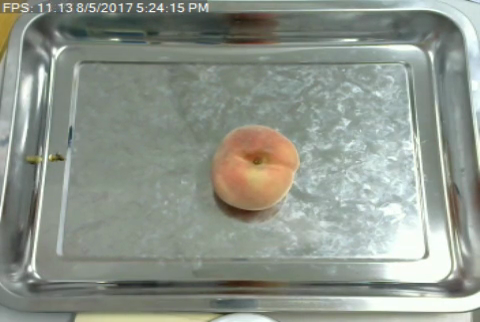Peach: (211, 124, 298, 210)
